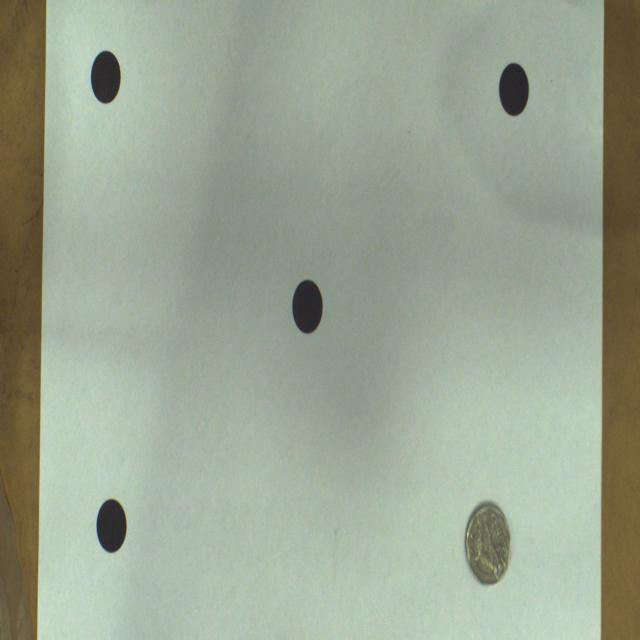space: (96, 498, 126, 553), (91, 51, 121, 104), (292, 280, 322, 333), (499, 64, 529, 116)
tail5bath: (465, 502, 511, 584)
